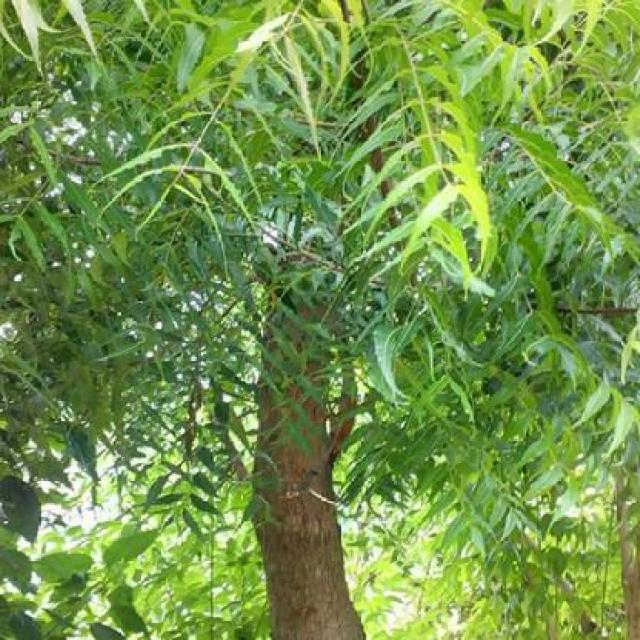Medicinal-Neem: (4, 2, 640, 316), (346, 324, 629, 556), (53, 331, 274, 520)
